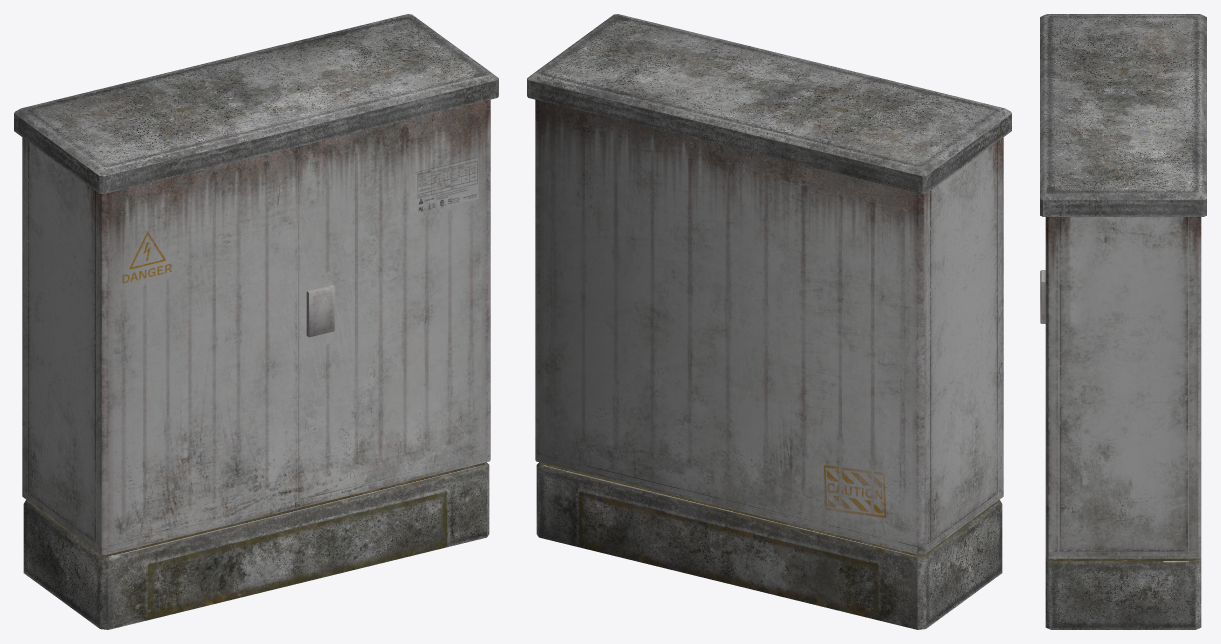
Rendered from SM_UtilityBox.fbx.
3 renders of one model, left to right at view 1: azimuth 30°, elevation 25°; view 2: azimuth 150°, elevation 25°; view 3: azimuth 270°, elevation 25°, orthographic. The views are drawn at different scales.
Parts seen in each view (by area): view 1: SM_UtilityBox; view 2: SM_UtilityBox; view 3: SM_UtilityBox.
Part boxes in pixels (x1=…): SM_UtilityBox: x1=14, y1=14, x2=498, y2=629; SM_UtilityBox: x1=527, y1=14, x2=1011, y2=629; SM_UtilityBox: x1=1040, y1=14, x2=1206, y2=629.
Bounding box in the file's own units: 123 × 47.2 × 136.
Materials: 1 (1 with a texture image).
